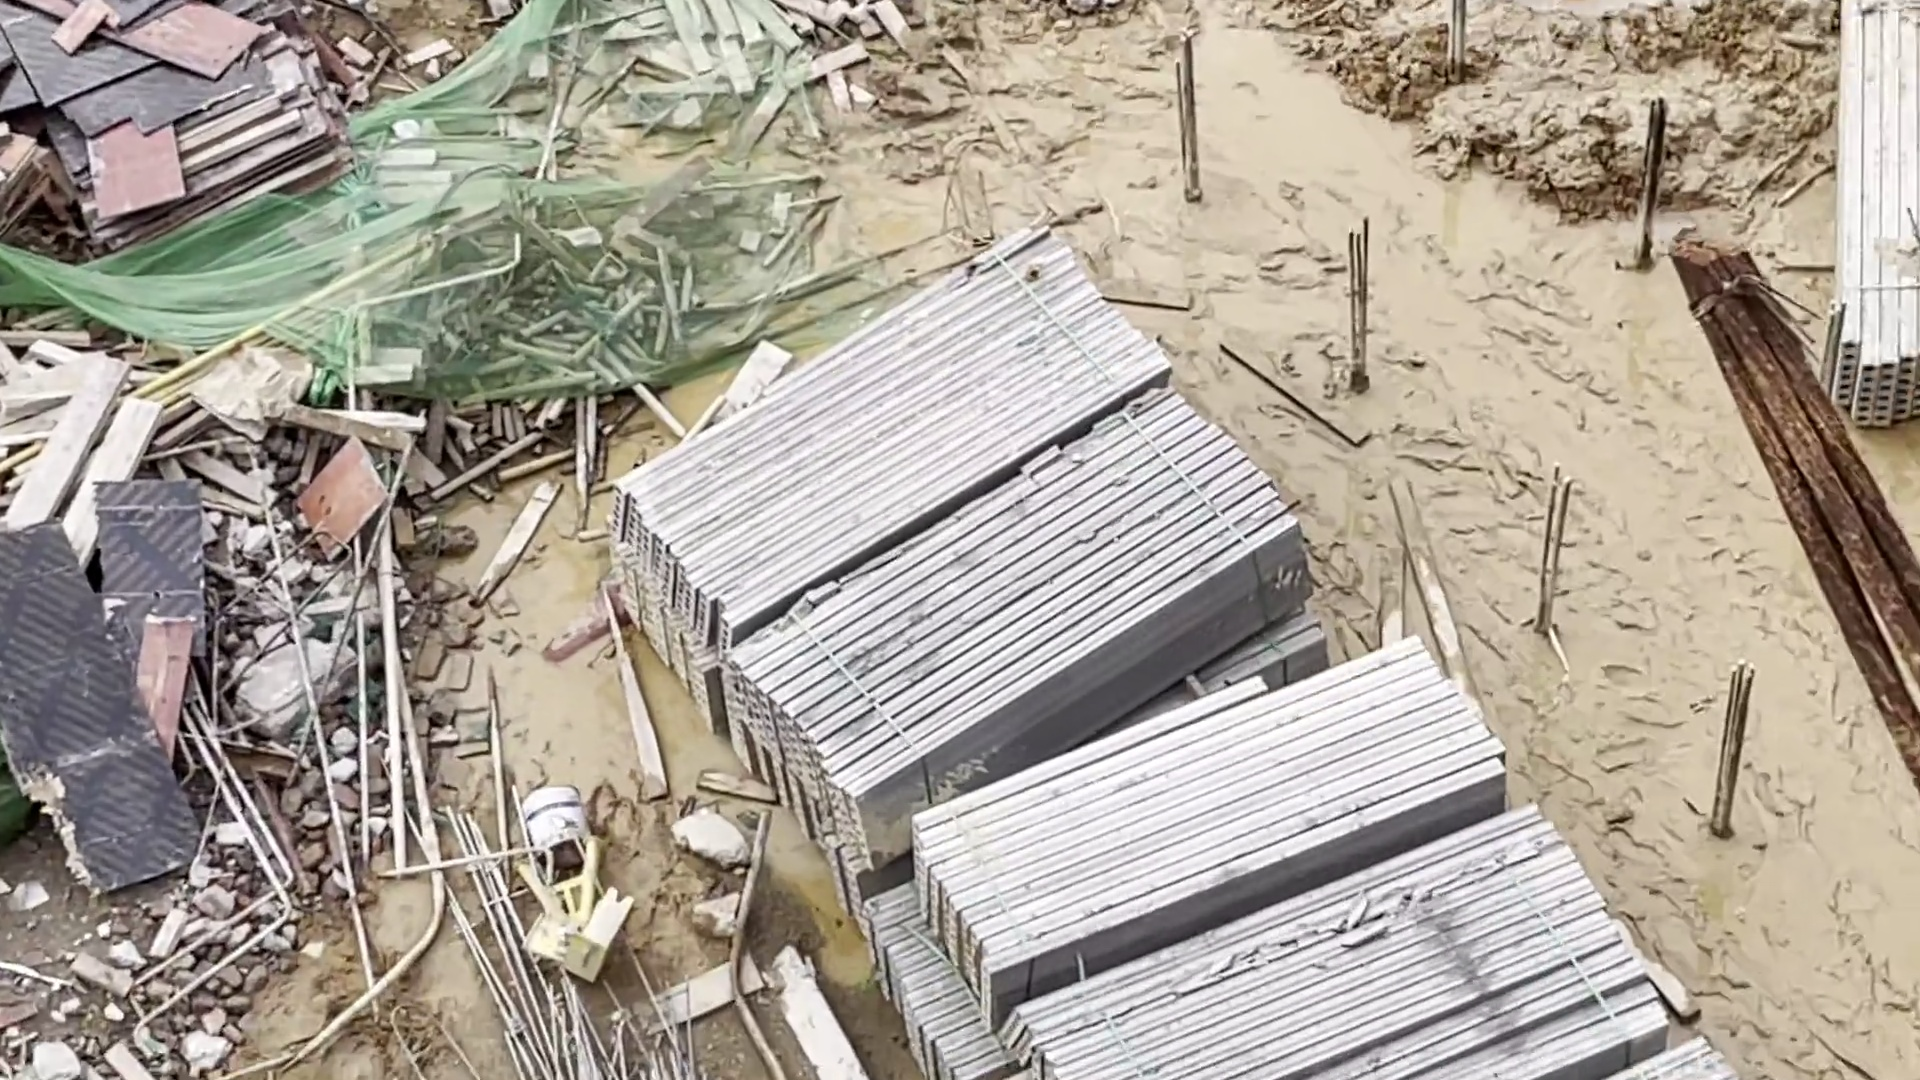board: (9, 7, 351, 204)
